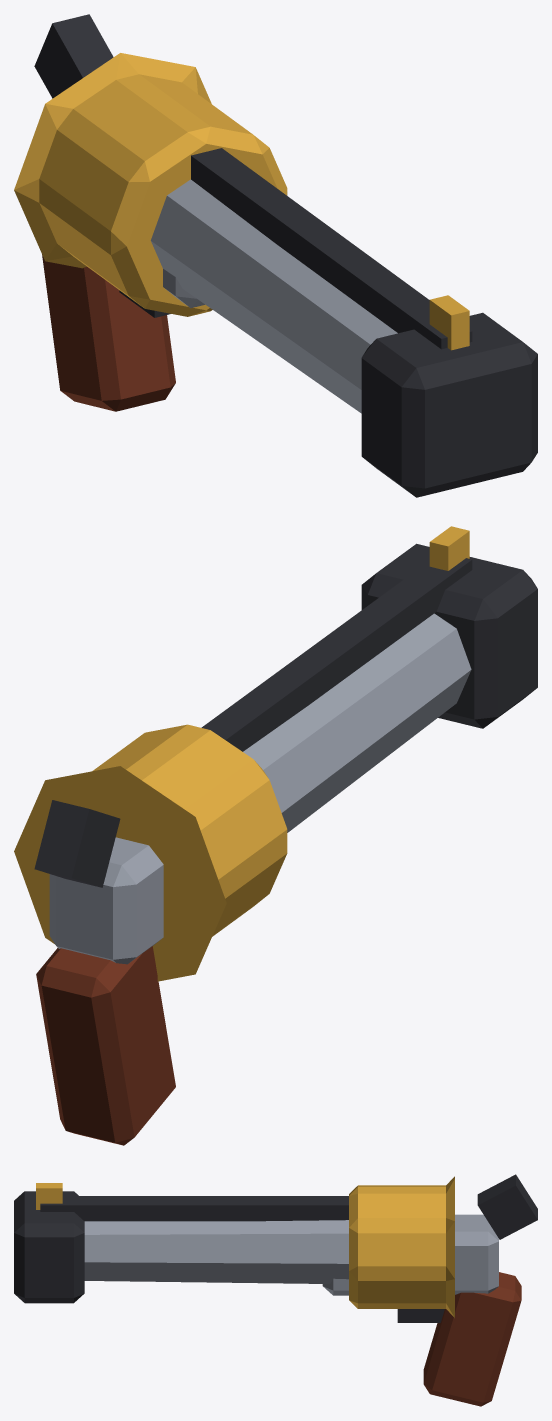
File: hand_cannon.glb
The picture shows the model from 3 angles, top to bottom: view 1: azimuth 30°, elevation 25°; view 2: azimuth 150°, elevation 25°; view 3: azimuth 270°, elevation 25°; orthographic projection. The views are drawn at different scales.
Visible parts, largest first — view 1: HandCannon; view 2: HandCannon; view 3: HandCannon.
Boxes of the visible parts, x1,y1,x2,y2 form: HandCannon: [14, 14, 537, 497]; HandCannon: [14, 526, 537, 1145]; HandCannon: [14, 1174, 537, 1406].
Bounding box in the file's own units: 0.1716 × 0.276 × 0.5942.
